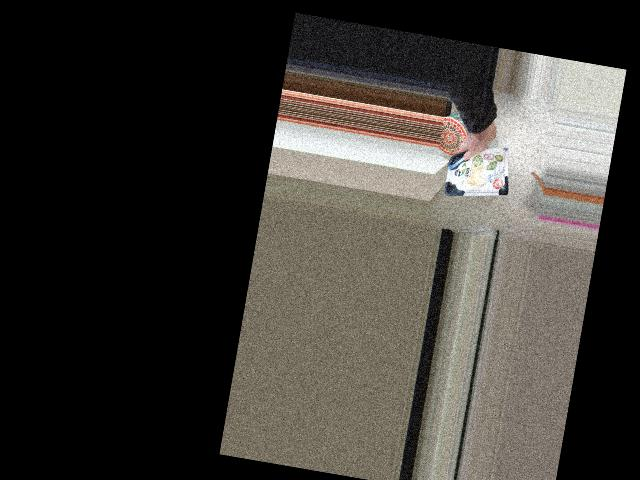cheese: (456, 131, 510, 188)
